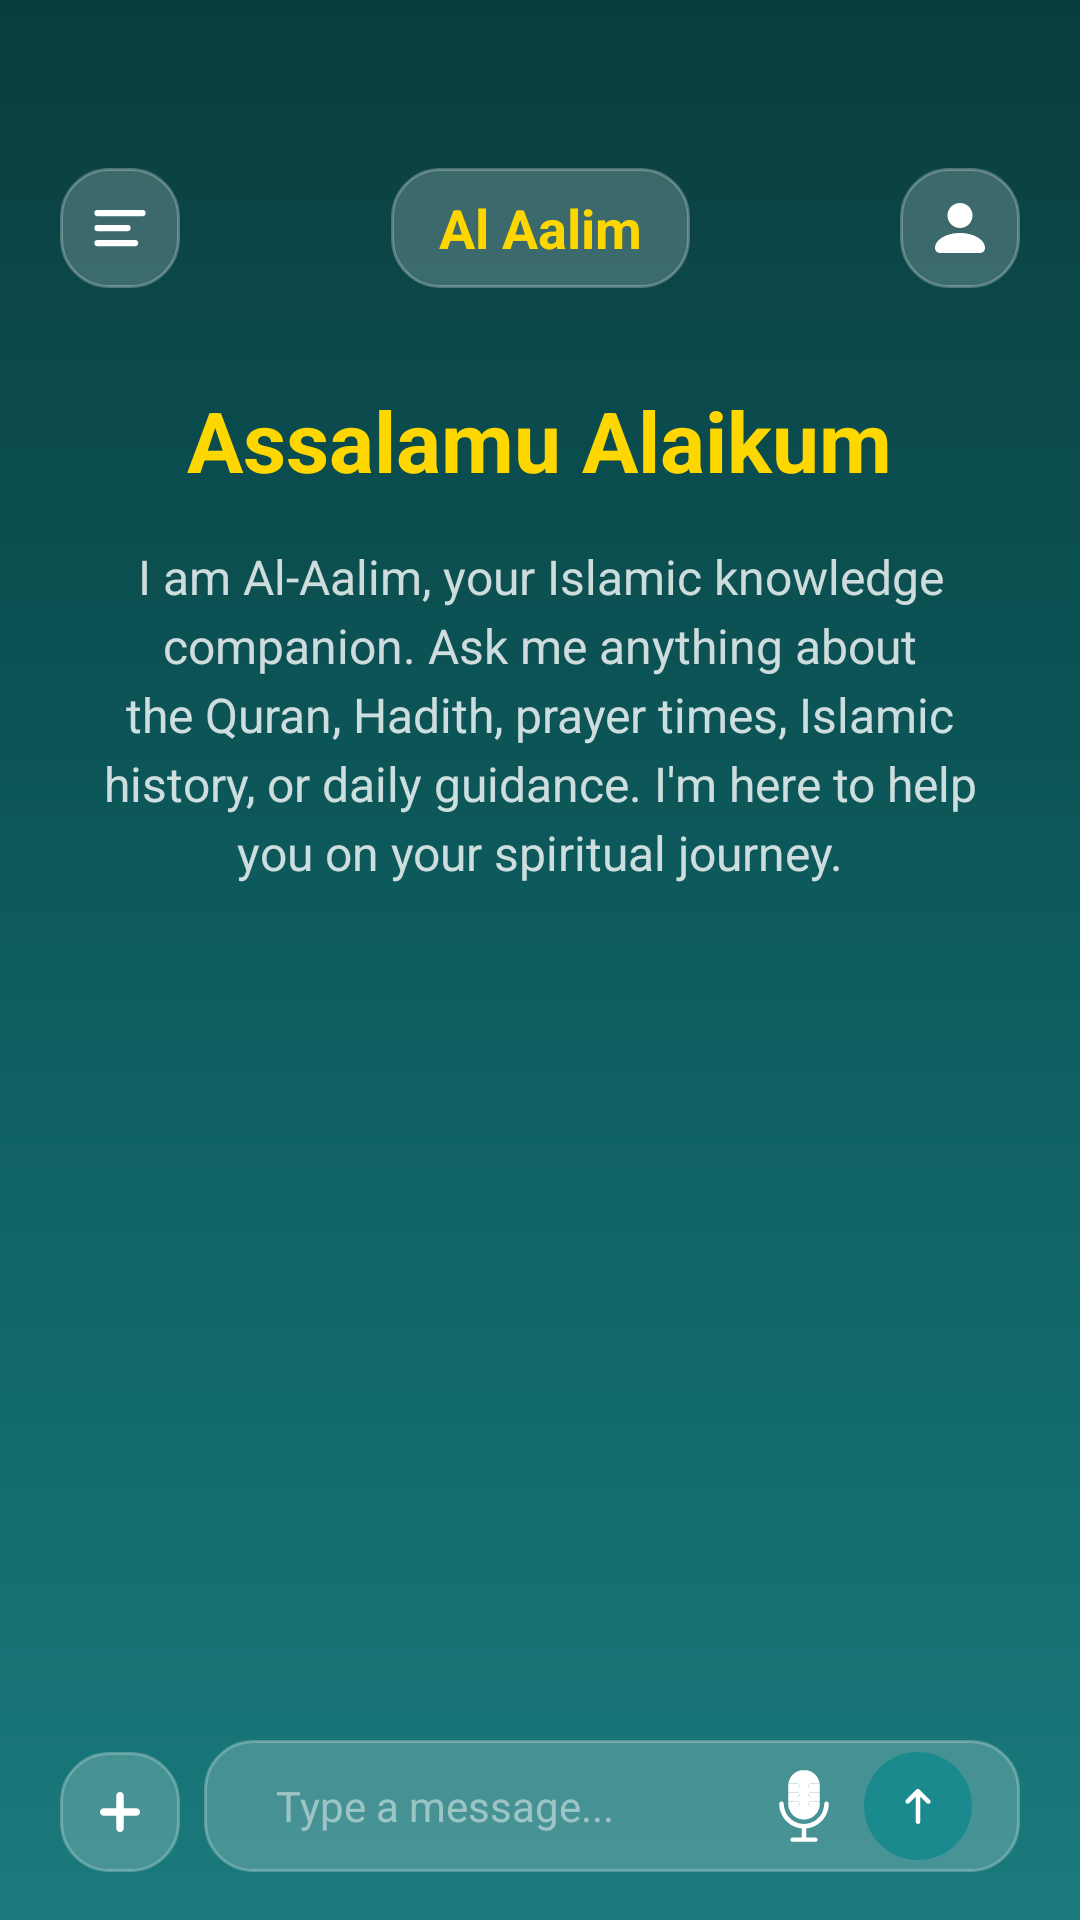

Icon click points for this 1080px x 1920px phone screenshot, format point (x, y):
Account: point (960, 228)
Add: point (120, 1812)
Menu: point (120, 228)
Microphone: point (804, 1806)
Send: point (918, 1806)
